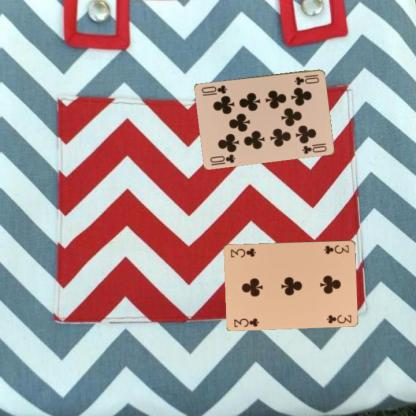10c: (292, 72, 321, 86), (208, 151, 237, 164)
3c: (321, 242, 350, 255), (232, 316, 260, 328)
